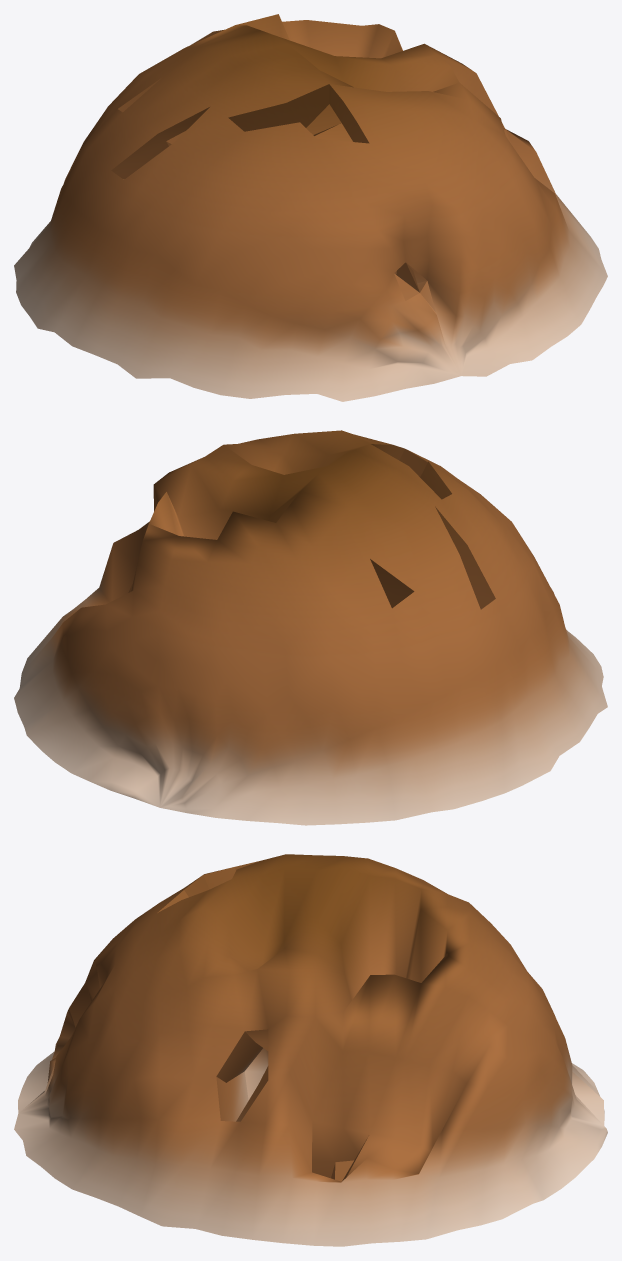
The model's file is earth_crust3.fbx.
3 views of the same model, one above another, from view 1: azimuth 30°, elevation 25°; view 2: azimuth 150°, elevation 25°; view 3: azimuth 270°, elevation 25° (orthographic).
Visible parts, largest first — view 1: crust; view 2: crust; view 3: crust.
Part boxes in pixels (box(x1,y1,x2,y2)): crust: box(14, 14, 607, 401); crust: box(14, 430, 607, 825); crust: box(14, 854, 607, 1246).
Size of the model in its own units: 1106 by 538 by 1103.
